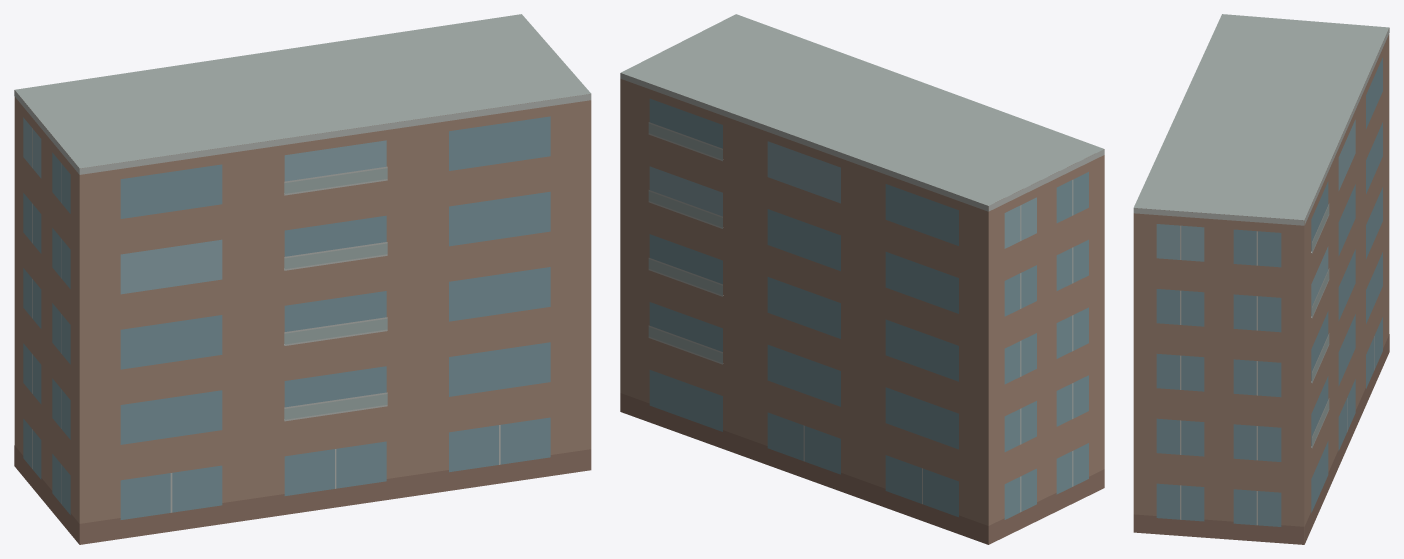
Rendered from survey-upis-32784571.glb.
3 renders of one model, left to right at view 1: azimuth 30°, elevation 25°; view 2: azimuth 150°, elevation 25°; view 3: azimuth 270°, elevation 25°, orthographic. The views are drawn at different scales.
Visible parts, largest first — view 1: survey-upis-32784571.tmp; view 2: survey-upis-32784571.tmp; view 3: survey-upis-32784571.tmp.
Boxes of the visible parts, x1=… form: survey-upis-32784571.tmp: x1=14, y1=14, x2=591, y2=544; survey-upis-32784571.tmp: x1=620, y1=14, x2=1104, y2=544; survey-upis-32784571.tmp: x1=1133, y1=14, x2=1389, y2=544.
Size of the model in its own units: 19.49 by 14.3 by 10.23.
